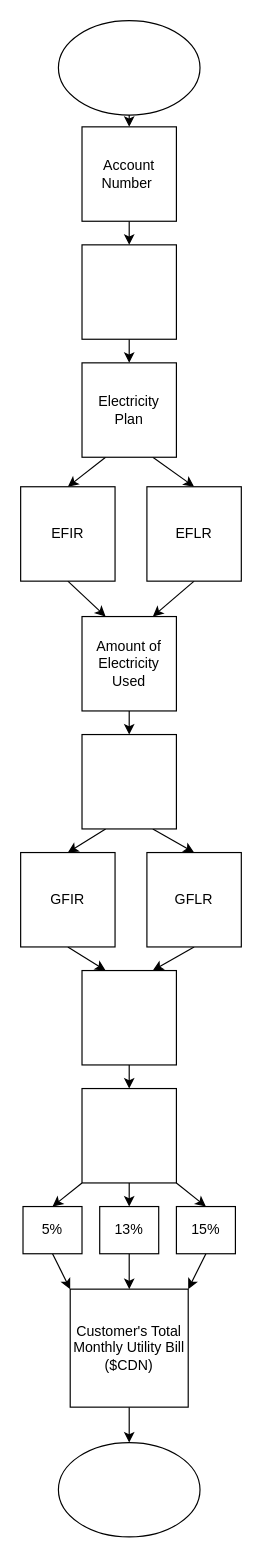
The diagram is 262 pixels wide and 1558 high, and some of its shapes have lost their labels. The centre of each missing label's shape, as x and y in pixels:
"Amount Of Natural Gas Used" belongs at pixel 128 1017.
"END" belongs at pixel 128 1489.
"Month" belongs at pixel 128 291.
"Natural Gas Plan" belongs at pixel 128 781.
"Province = Taxes" belongs at pixel 128 1135.
"START" belongs at pixel 128 67.
